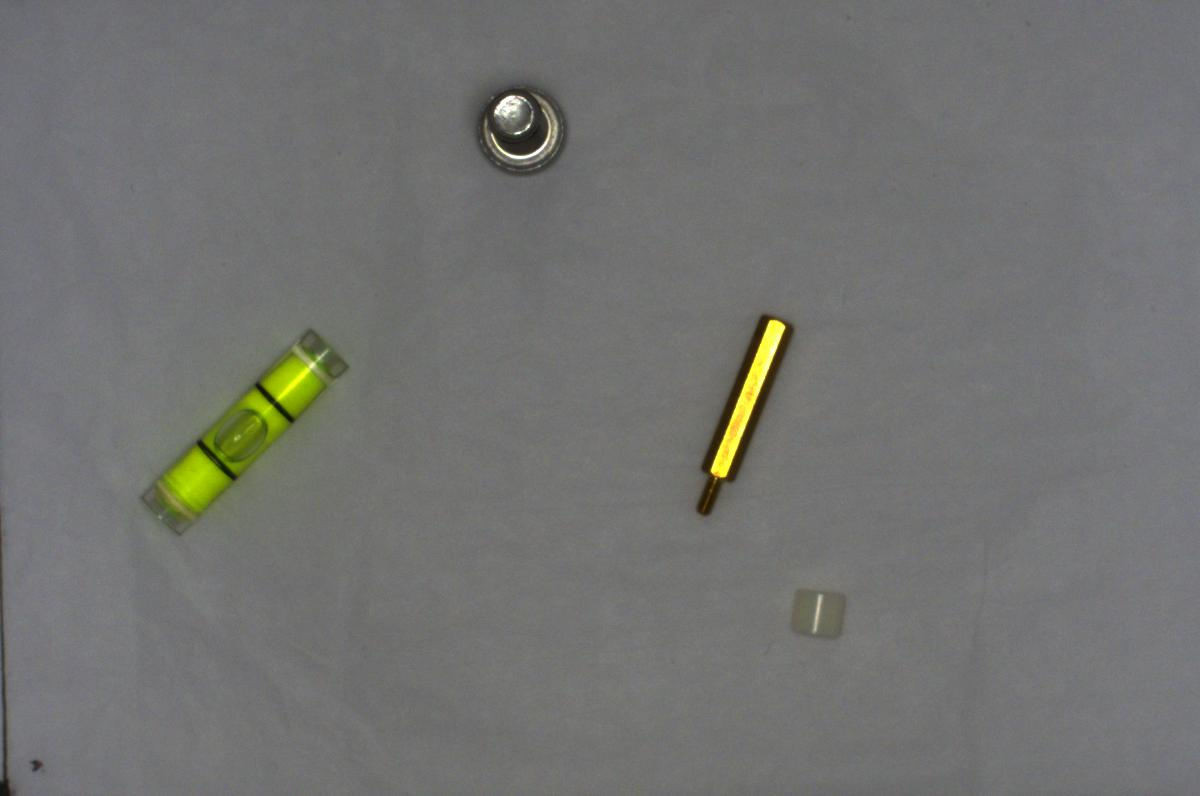Hexagon pillar: (687, 310, 793, 516)
Hexagon screw: (471, 82, 570, 179)
Horizontal bubble: (135, 314, 355, 538)
Plastic cushion pillar: (773, 581, 851, 650)
